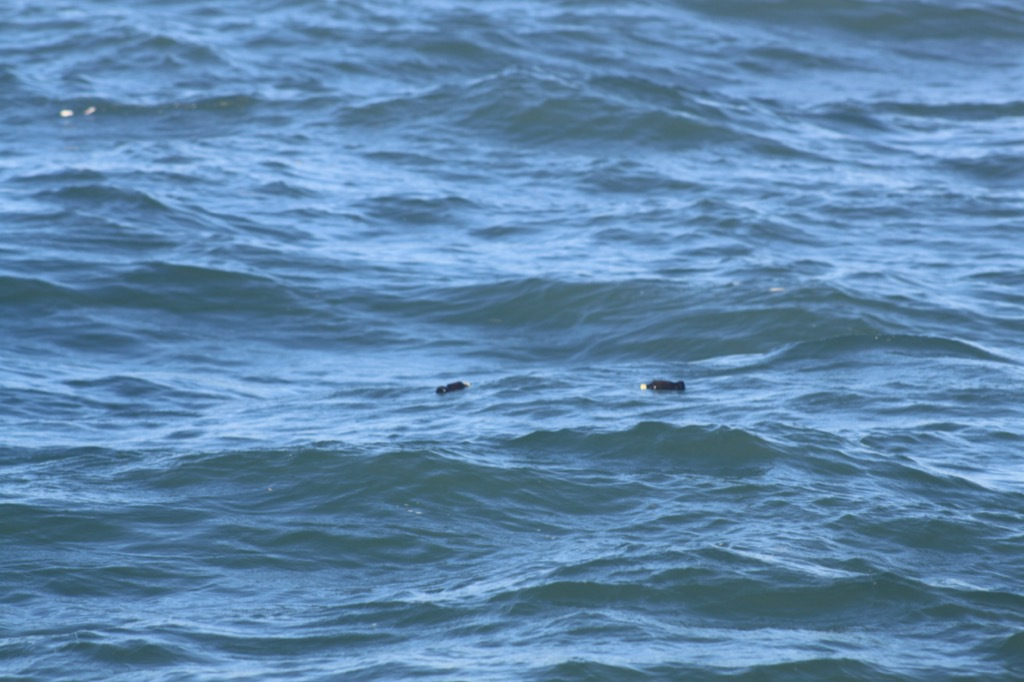plastic: (607, 349, 714, 432), (417, 356, 491, 417), (43, 89, 84, 133), (78, 90, 108, 128)
